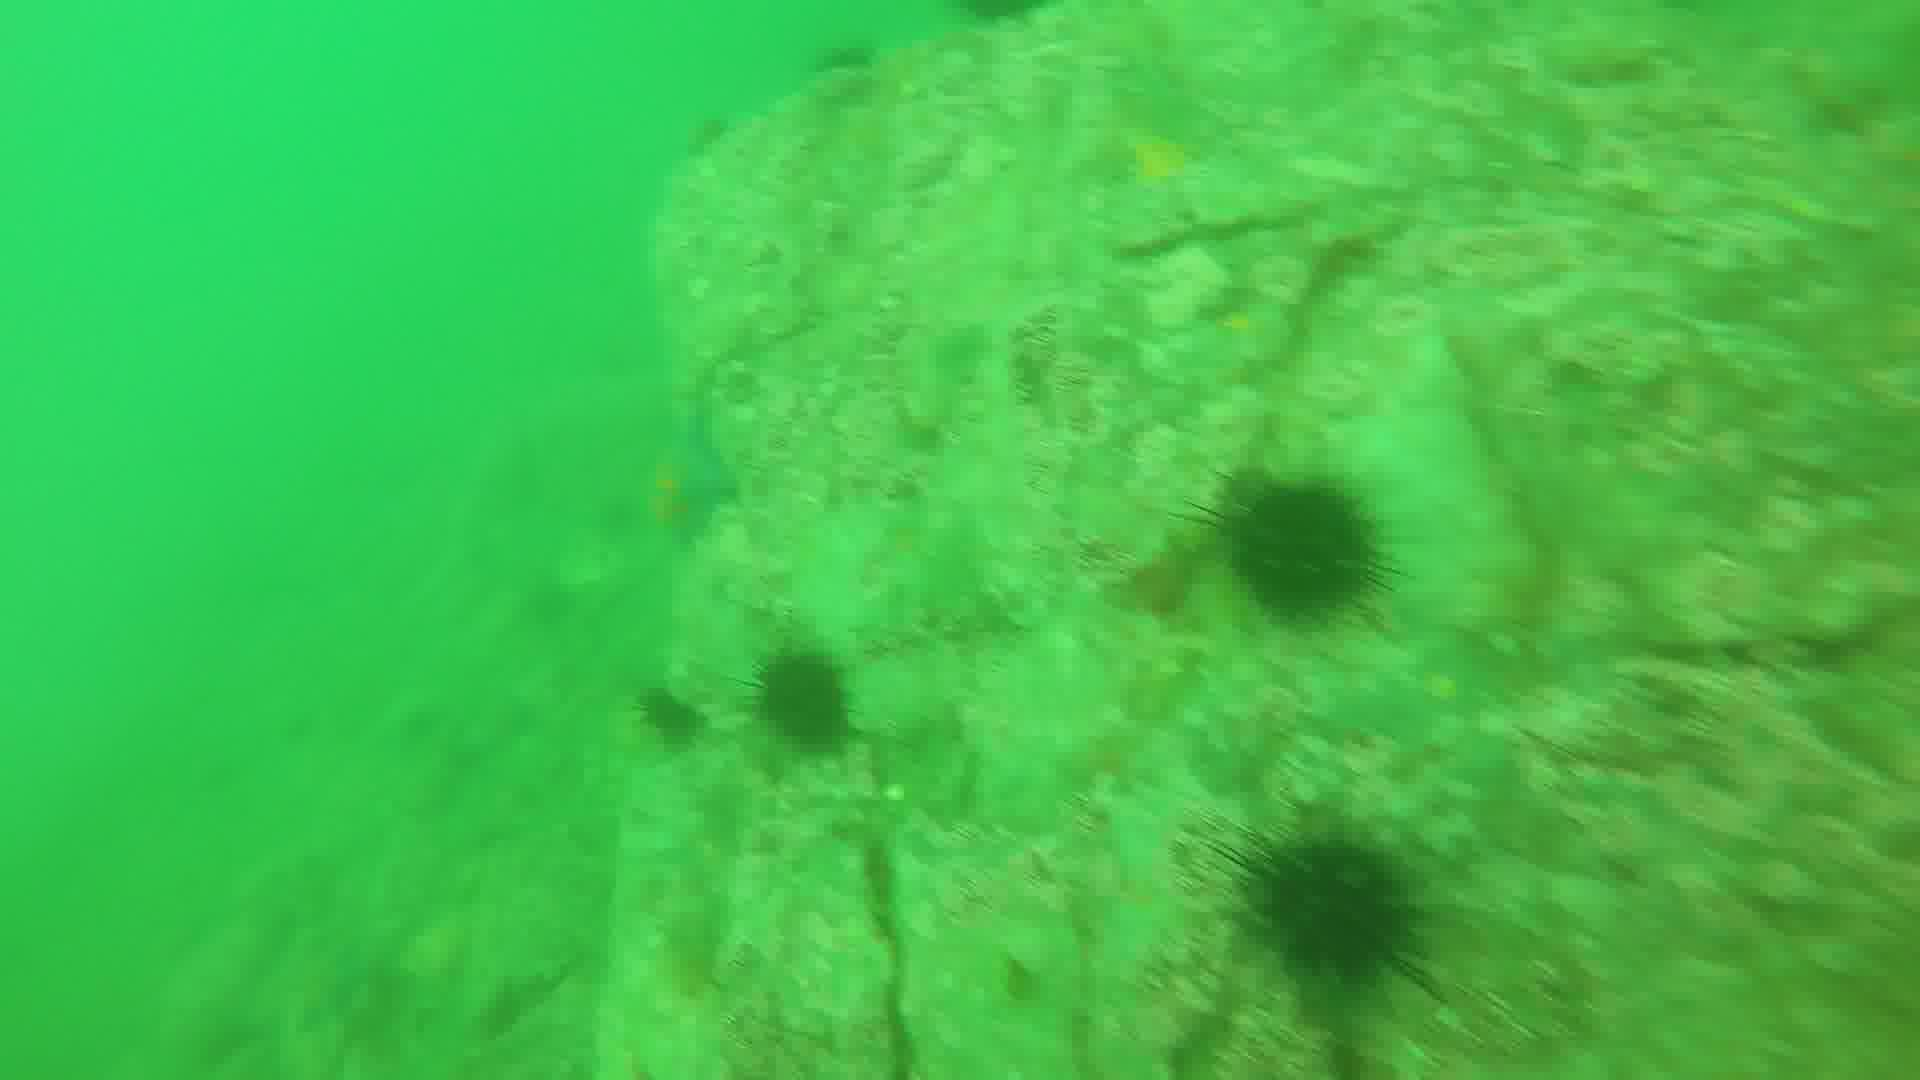echinus: (1245, 828, 1428, 990), (1222, 473, 1379, 613), (752, 646, 858, 760), (625, 686, 712, 756)
starfish: (649, 413, 742, 554)
